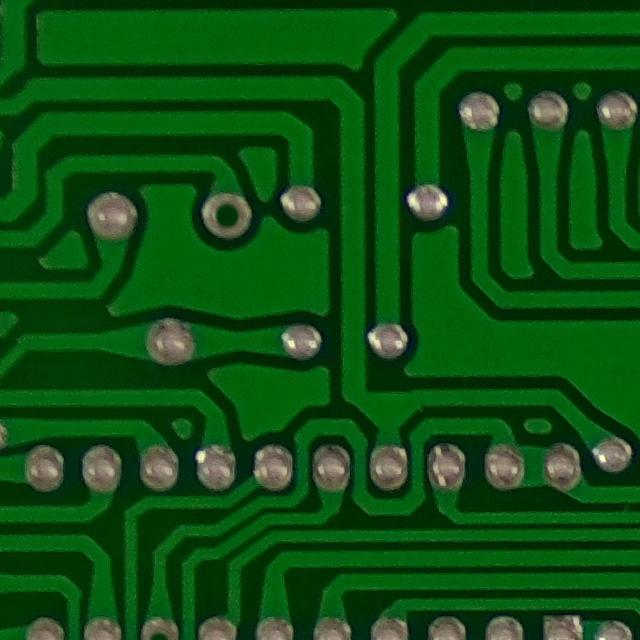missing_hole: (196, 185, 265, 248)
